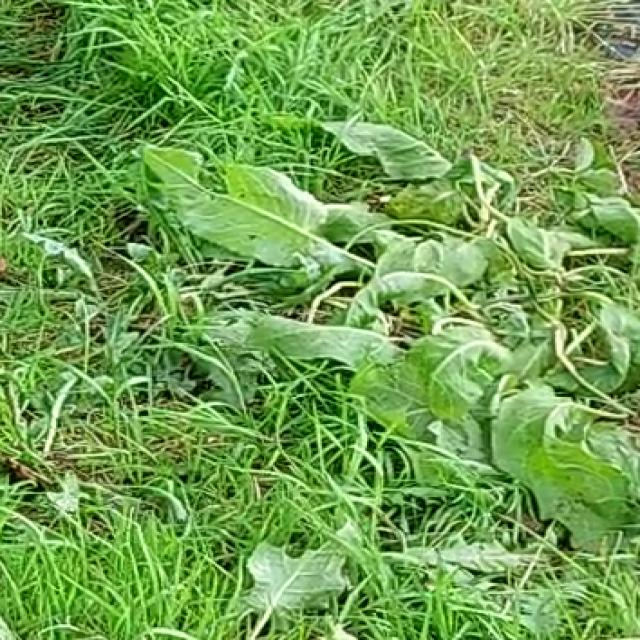organic waste: (143, 108, 640, 465)
